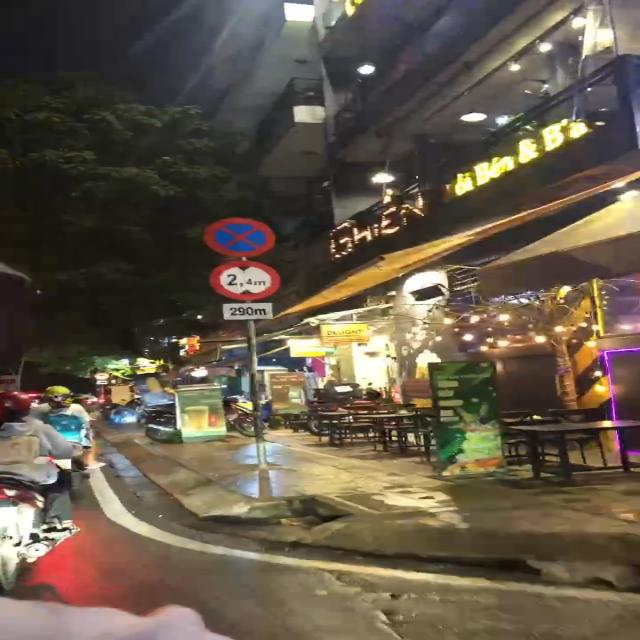Bien bao cam dung xe va do xe: (193, 214, 281, 258)
Bien bao han che chieu cao: (208, 258, 286, 300)
